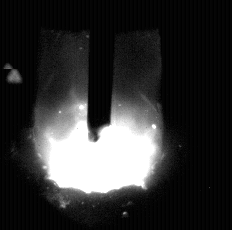arame: (88, 0, 113, 142)
poca: (34, 0, 163, 230)
